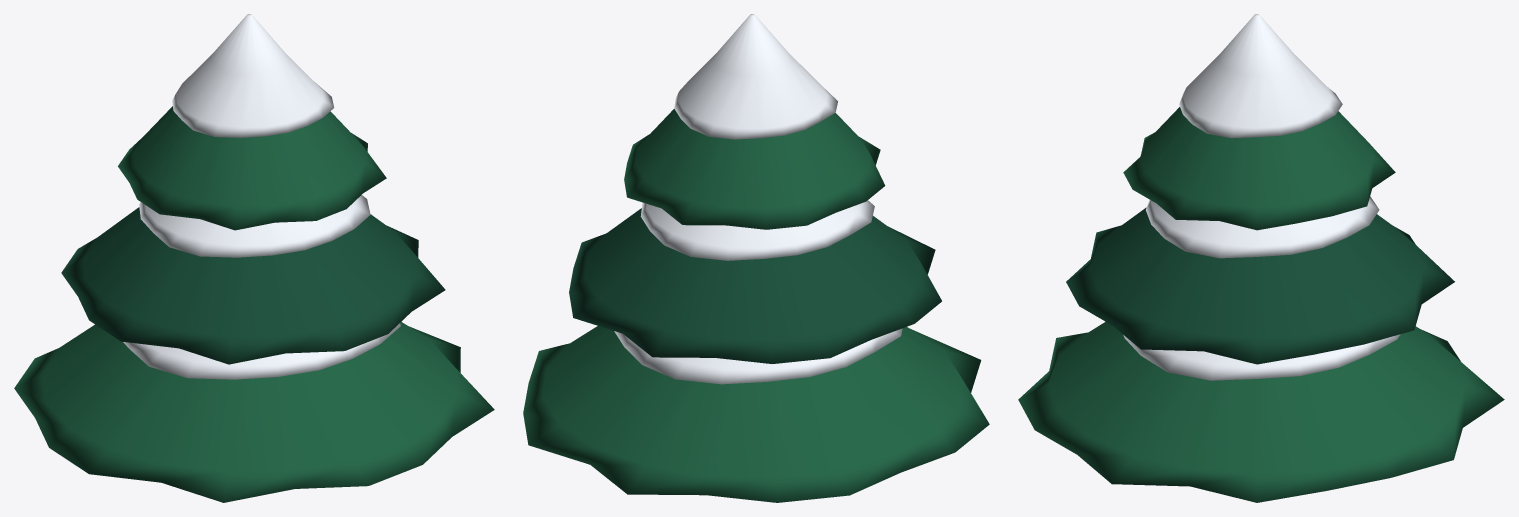
File: snowpine_round.glb
3 views of the same model, side by side, from view 1: azimuth 30°, elevation 25°; view 2: azimuth 150°, elevation 25°; view 3: azimuth 270°, elevation 25° (orthographic).
Visible parts, largest first — view 1: snowpine_round; view 2: snowpine_round; view 3: snowpine_round.
Boxes of the visible parts, box(x1,y1,x2,y2) form: snowpine_round: box(14, 14, 494, 502); snowpine_round: box(523, 14, 989, 502); snowpine_round: box(1018, 14, 1504, 502).
Bounding box in the file's own units: 5.13 × 5.47 × 5.24.
